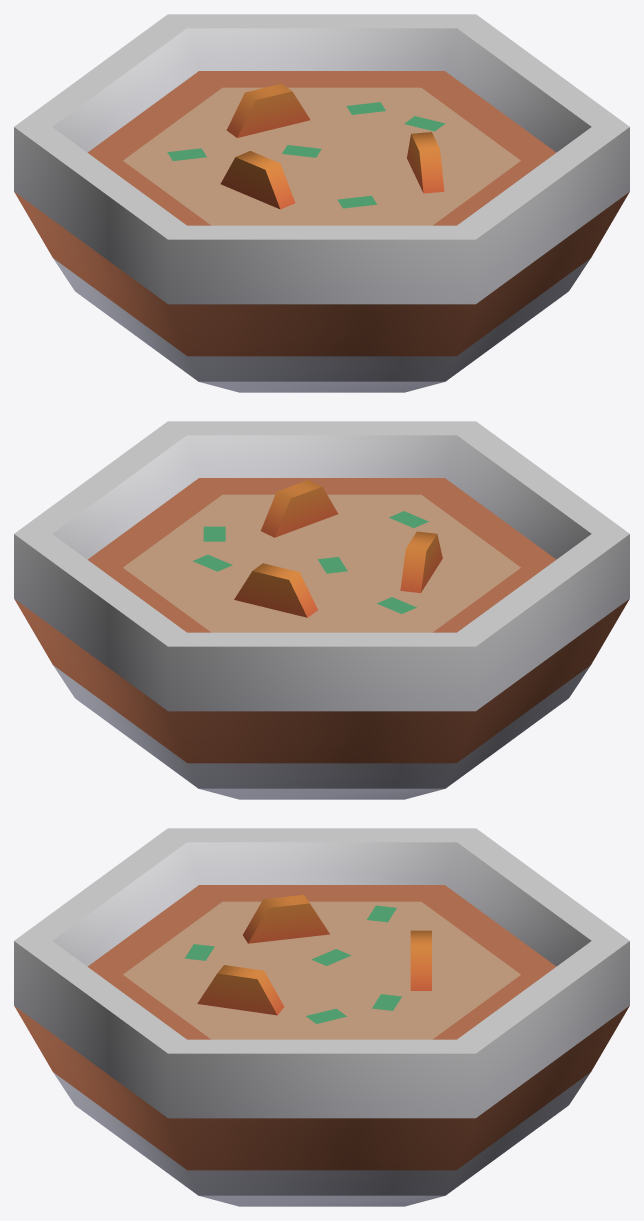
The model's file is bowl-soup.glb.
3 renders of one model, top to bottom at view 1: azimuth 30°, elevation 25°; view 2: azimuth 150°, elevation 25°; view 3: azimuth 270°, elevation 25°, orthographic.
Visible parts, largest first — view 1: bowl-soup; view 2: bowl-soup; view 3: bowl-soup.
Part boxes in pixels (<box>): bowl-soup: <box>14,14,629,392</box>; bowl-soup: <box>14,421,629,799</box>; bowl-soup: <box>14,828,629,1206</box>.
Bounding box in the file's own units: 0.5022 × 0.2138 × 0.5798.
